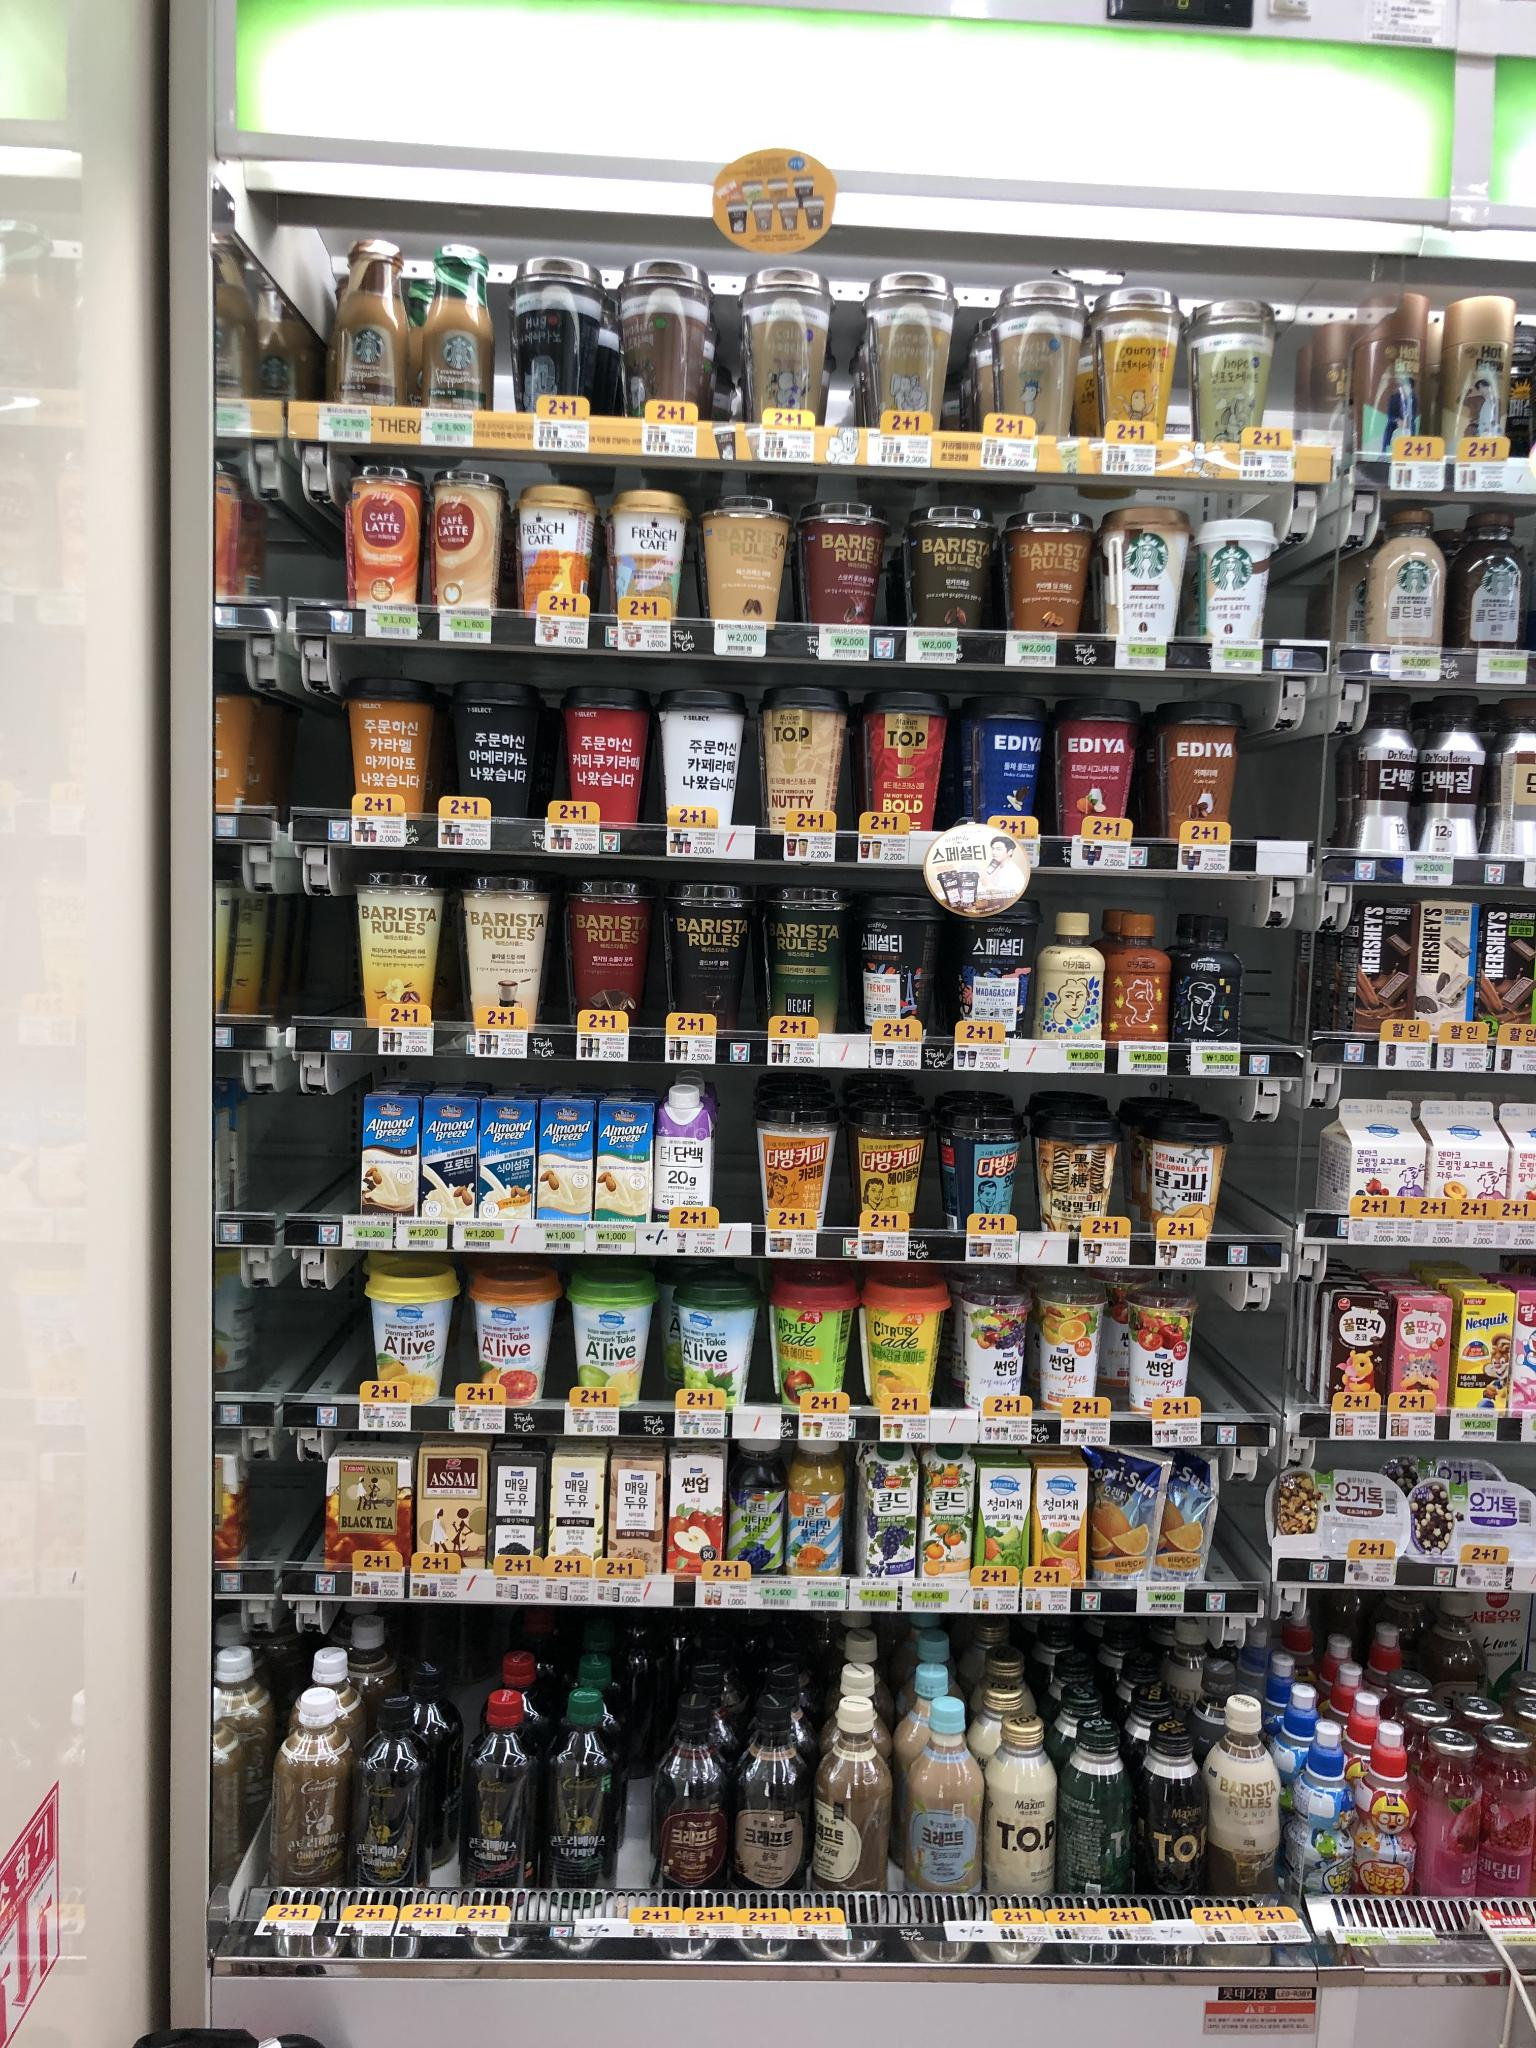baristarules_espressolatte: (700, 502, 791, 634)
contrabass_sweetblack: (457, 1684, 541, 1896)
starbucks_cafelatte: (1097, 498, 1189, 643)
